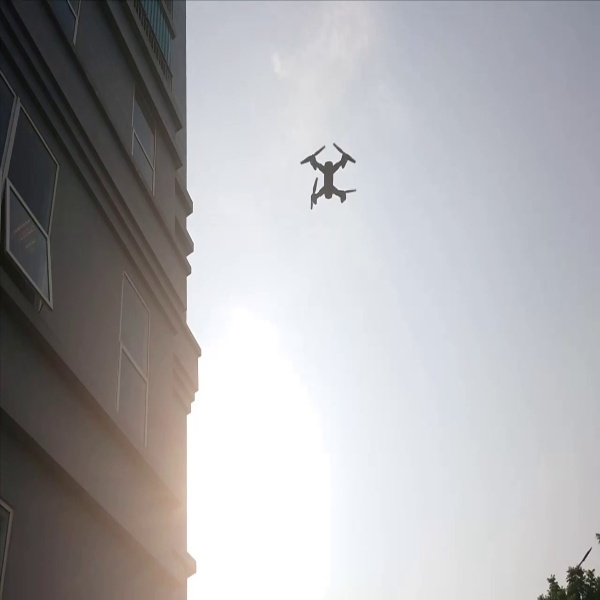drone: (291, 131, 364, 213)
